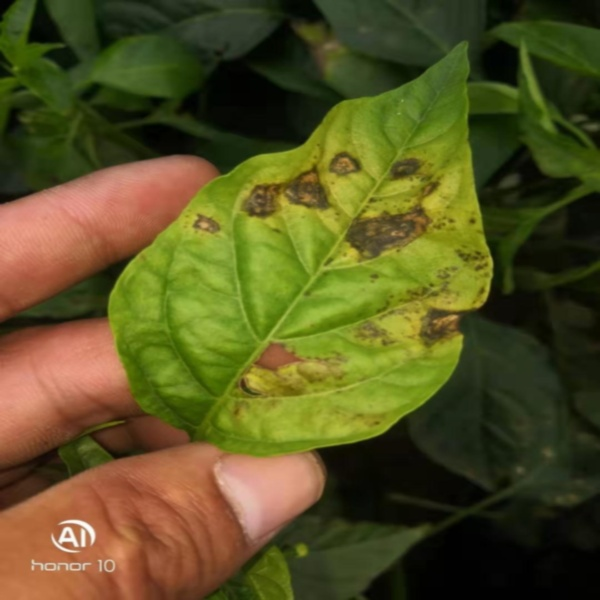Anthrax: (240, 152, 446, 258), (354, 246, 492, 362), (236, 341, 385, 435), (185, 209, 223, 238)
